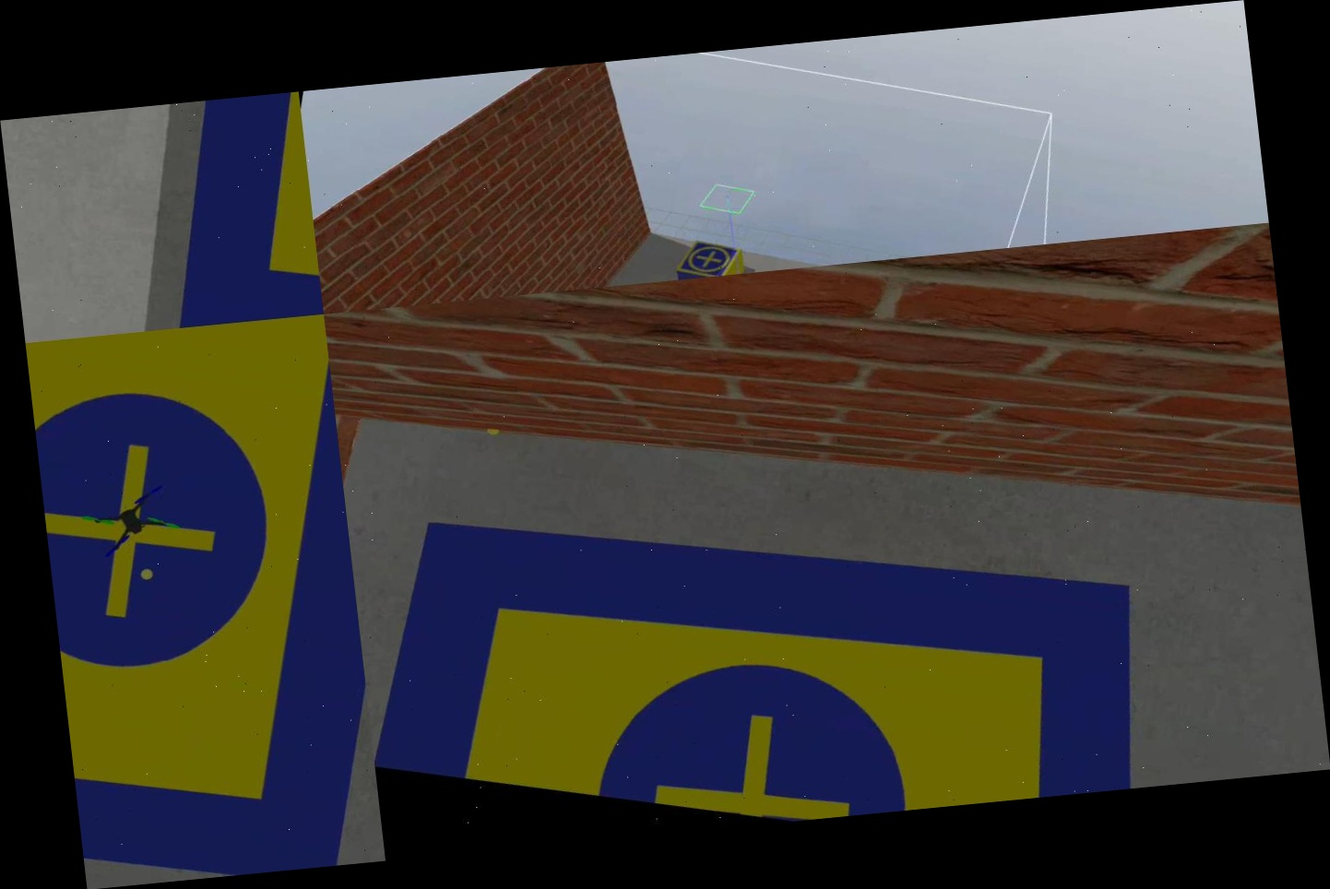large_base: (345, 422, 1192, 859), (26, 314, 386, 889), (134, 91, 324, 330)
small_base: (671, 232, 745, 280)
